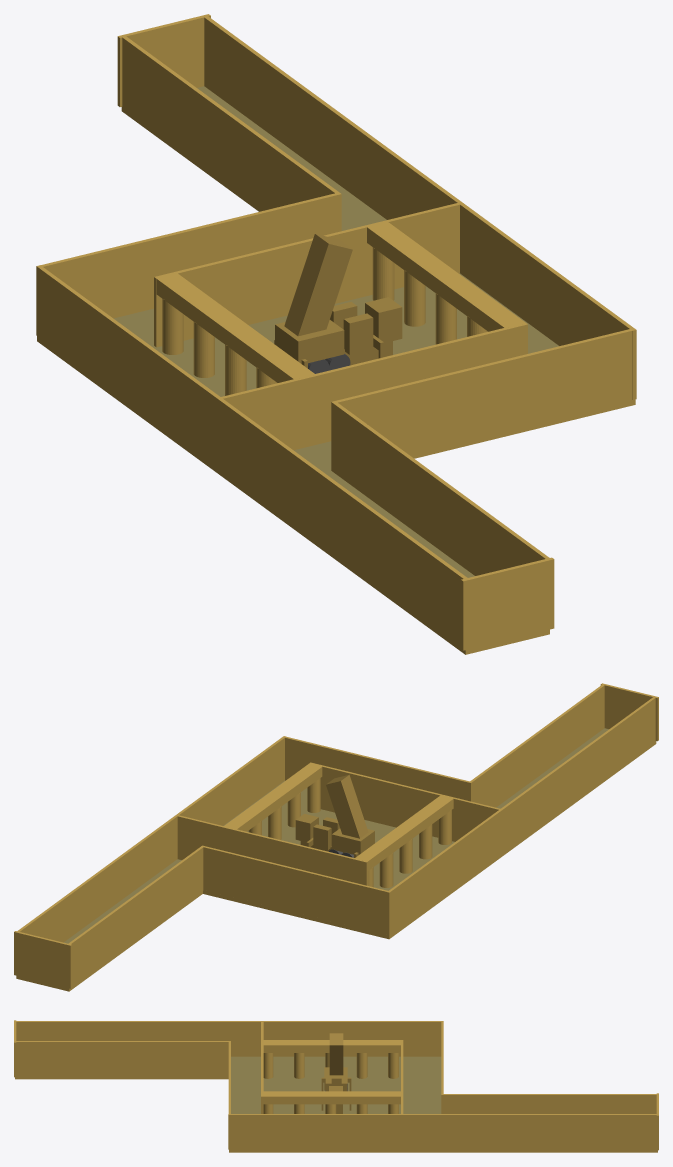
Rendered from LowPavlovVR_SandMap.fbx.
3 views of the same model, one above another, from view 1: azimuth 30°, elevation 25°; view 2: azimuth 150°, elevation 25°; view 3: azimuth 270°, elevation 25° (orthographic). The views are drawn at different scales.
Visible parts, largest first — view 1: Cube.003, Cube.016; view 2: Cube.003, Cube.016; view 3: Cube.003, Cube.016.
Boxes of the visible parts, <box> form: Cube.003: <box>36,14,636,654</box>; Cube.016: <box>274,233,402,373</box>; Cube.003: <box>14,683,658,991</box>; Cube.016: <box>295,774,374,857</box>; Cube.003: <box>14,1020,658,1152</box>; Cube.016: <box>321,1033,351,1113</box>.
Size of the model in its own units: 1613 by 543 by 4617.
